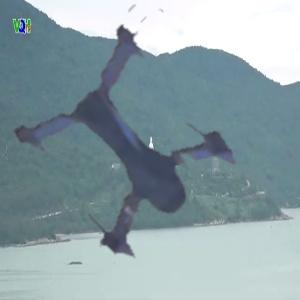drone: (12, 33, 279, 300)
